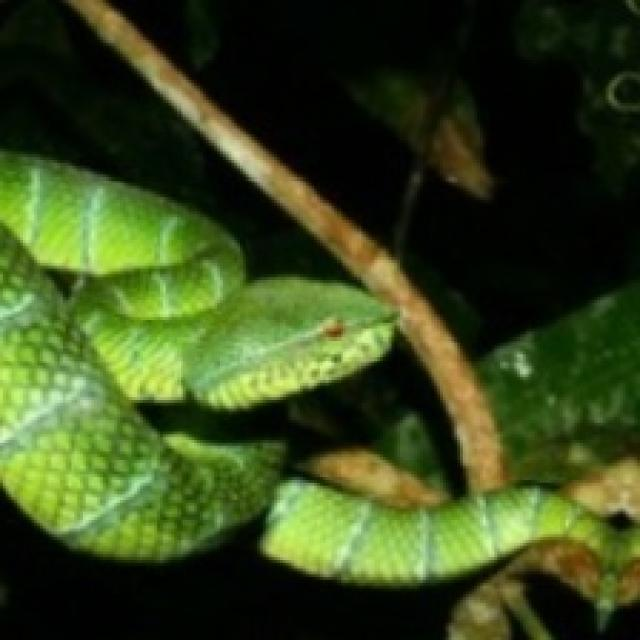north ph temple pitviper: (0, 151, 637, 637)
